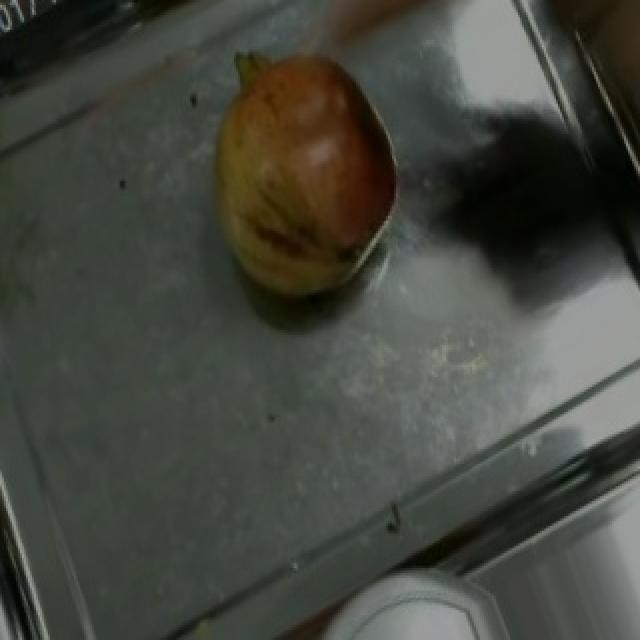fruit: (170, 20, 428, 312)
